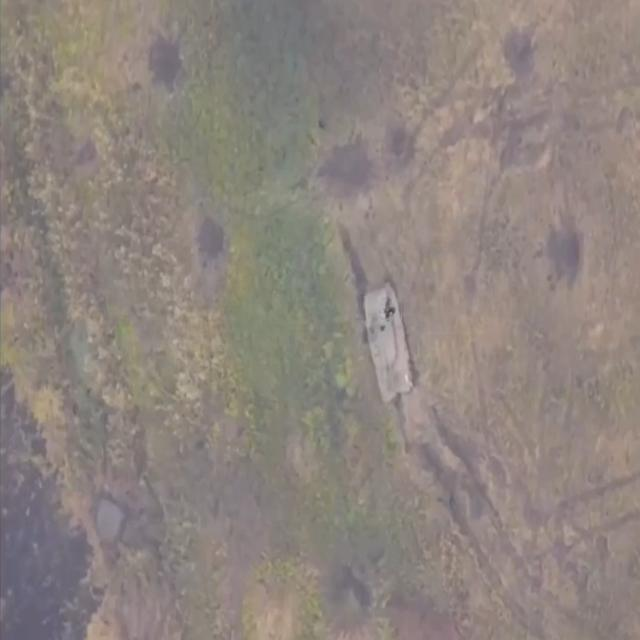MBT: (360, 282, 417, 411)
